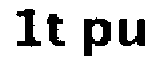1: (14, 8, 44, 50)
p: (82, 16, 114, 60)
t: (45, 11, 71, 51)
u: (119, 13, 146, 50)
